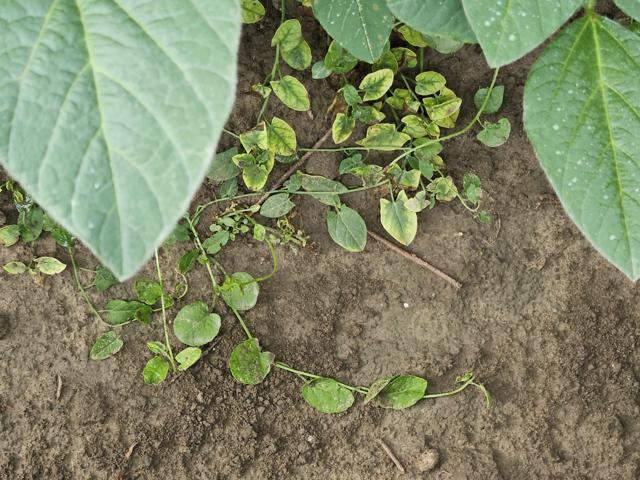bad weed: (84, 256, 484, 445), (246, 19, 493, 239), (1, 201, 61, 264)
